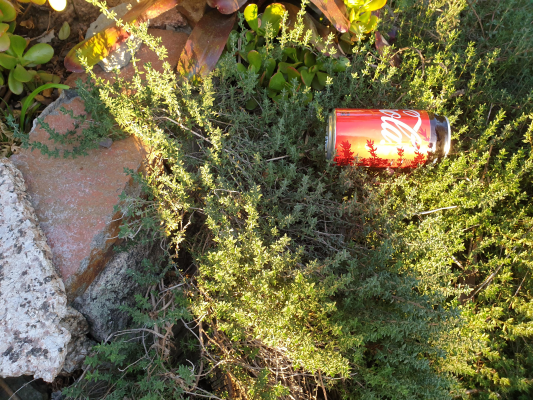Plastic Bottle: (326, 109, 451, 171)
